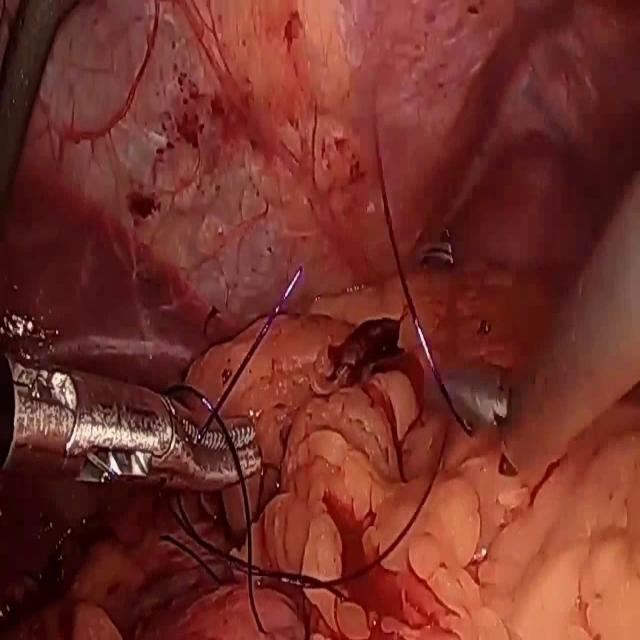surgical-area: (0, 0, 640, 639)
surgical-tool: (0, 351, 262, 498)
